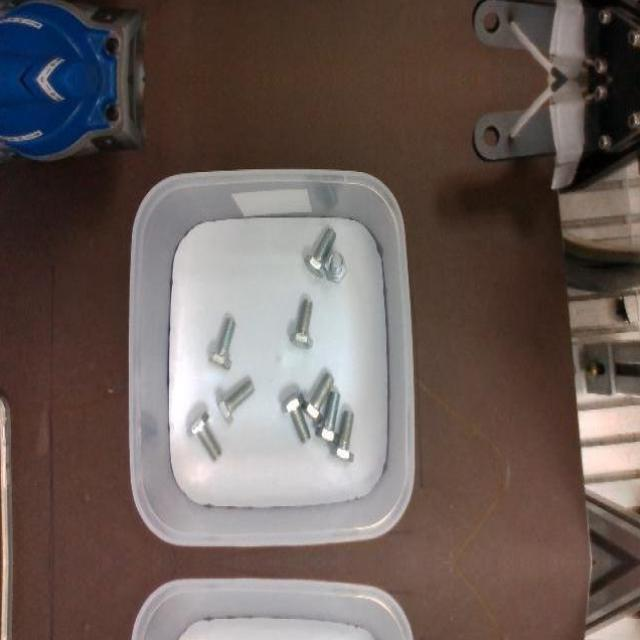screw: (216, 378, 257, 424), (186, 411, 222, 462), (301, 371, 335, 424), (304, 228, 337, 278), (282, 389, 312, 444), (208, 317, 236, 369), (315, 389, 340, 444), (330, 409, 355, 462), (290, 299, 314, 349), (325, 253, 347, 282)
